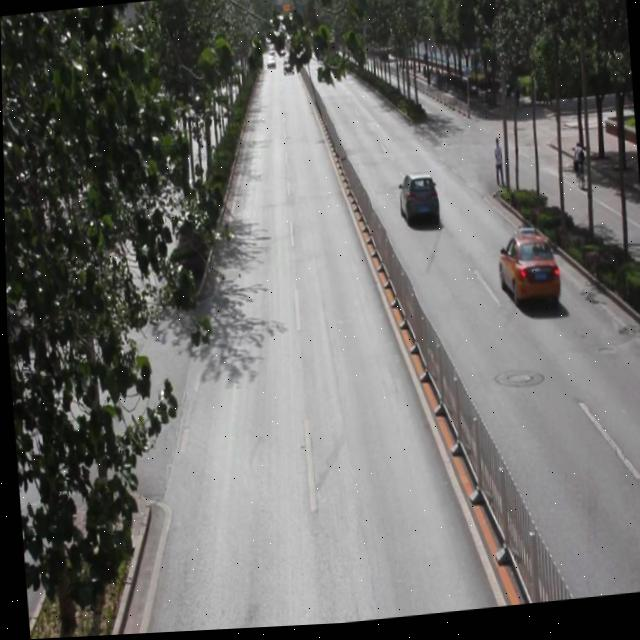car: (492, 232, 558, 320), (394, 173, 439, 233)
